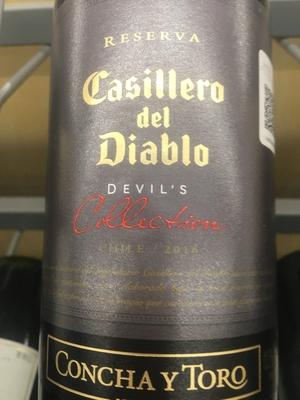casillero del diablo devils collection rojo: (48, 1, 274, 400)
